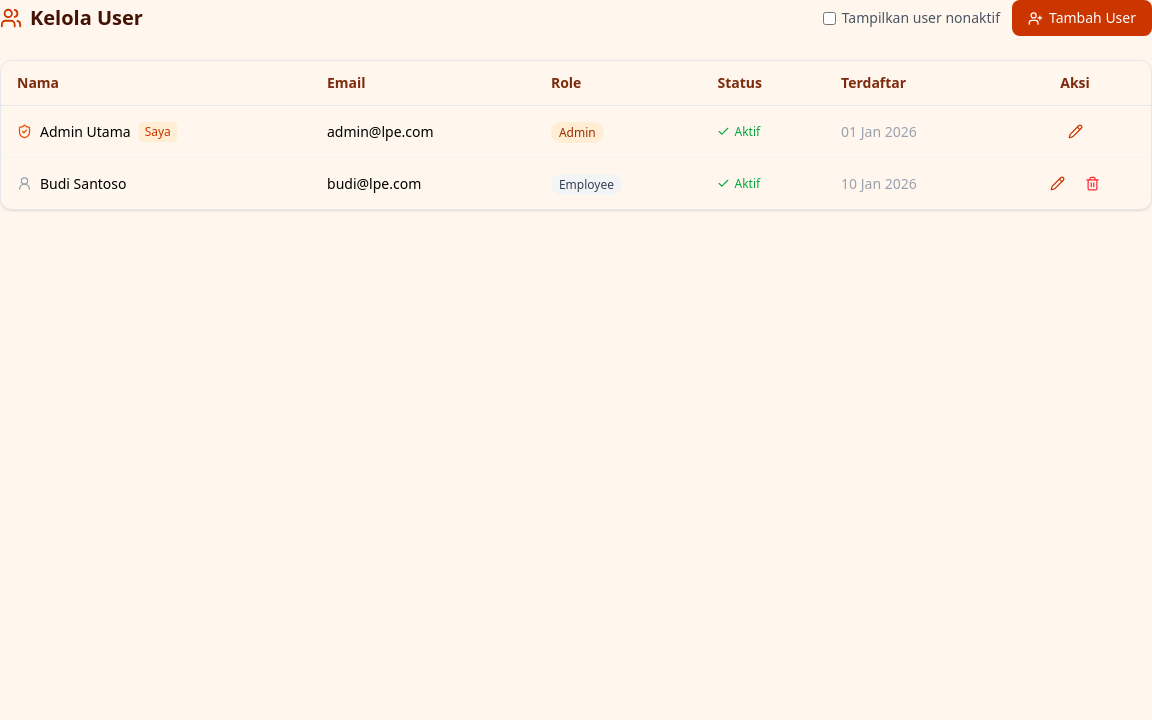
it: UserManagement Component (components/admin/UserManagement.jsx) › harus menampilkan pesan error jika penambahan user gagal
Check: the text "Admin Utama" is shown, box [40,122,131,140]
Click the button "Tambah User" at coordinates (1082, 18), box [1012,0,1151,36]
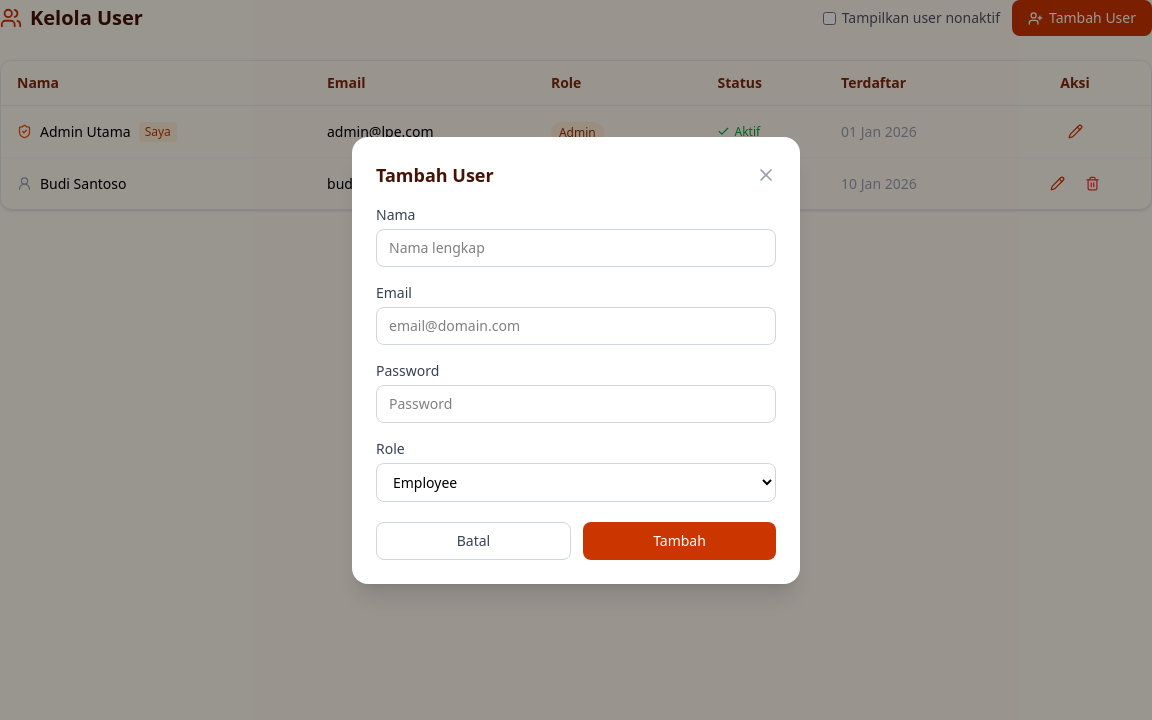
Type "Siti Rahma" into the field with placeholder "Nama lengkap" at coordinates (576, 248), box [376,228,776,266]
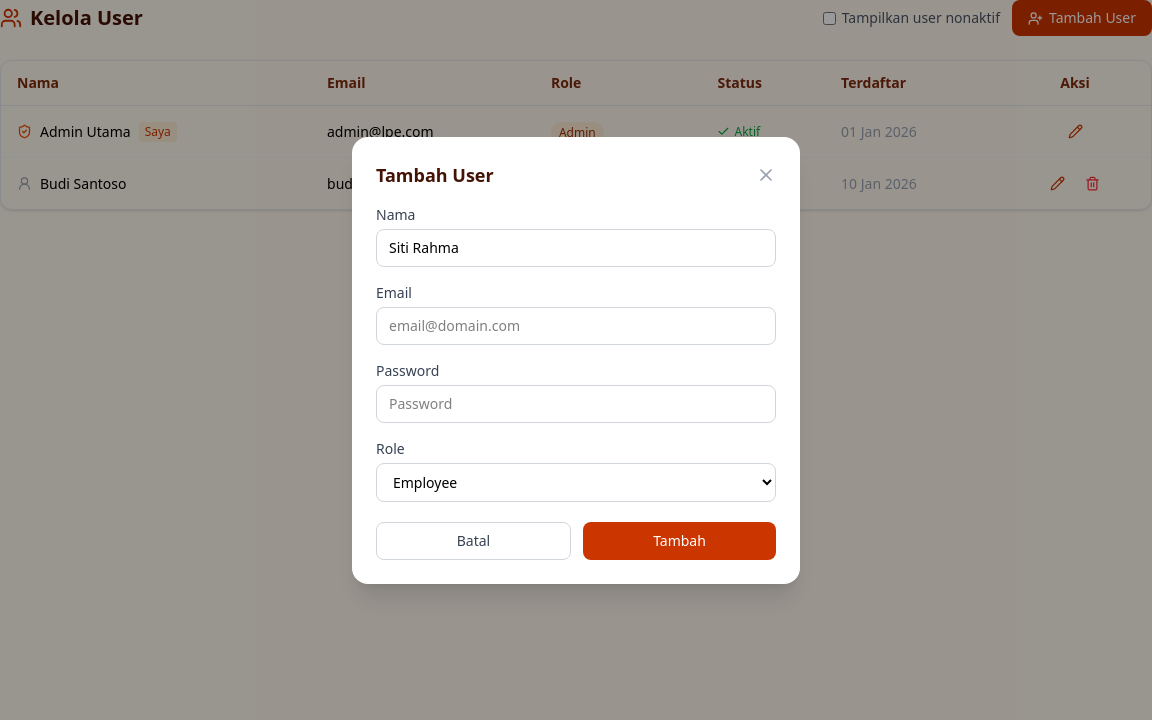
Type "siti@lpe.com" into the field with placeholder "email@domain.com" at coordinates (576, 326), box [376,306,776,344]
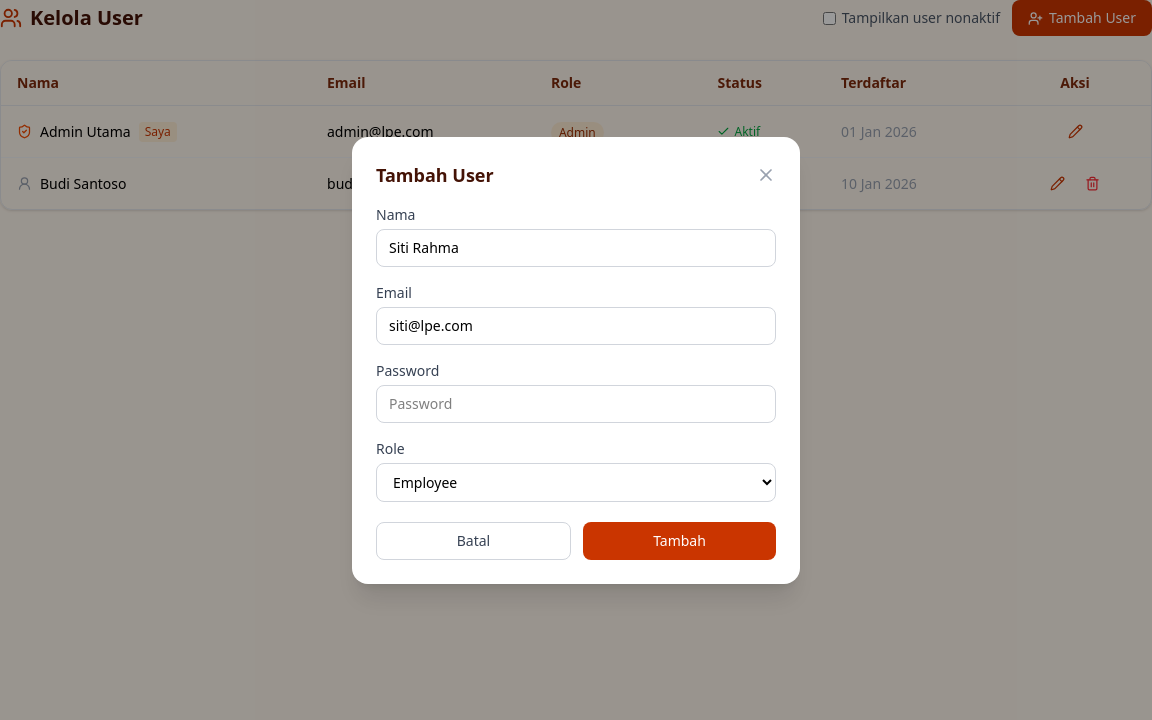
Type "secret123" into the password field with placeholder "Password" at coordinates (576, 404), box [376,384,776,422]
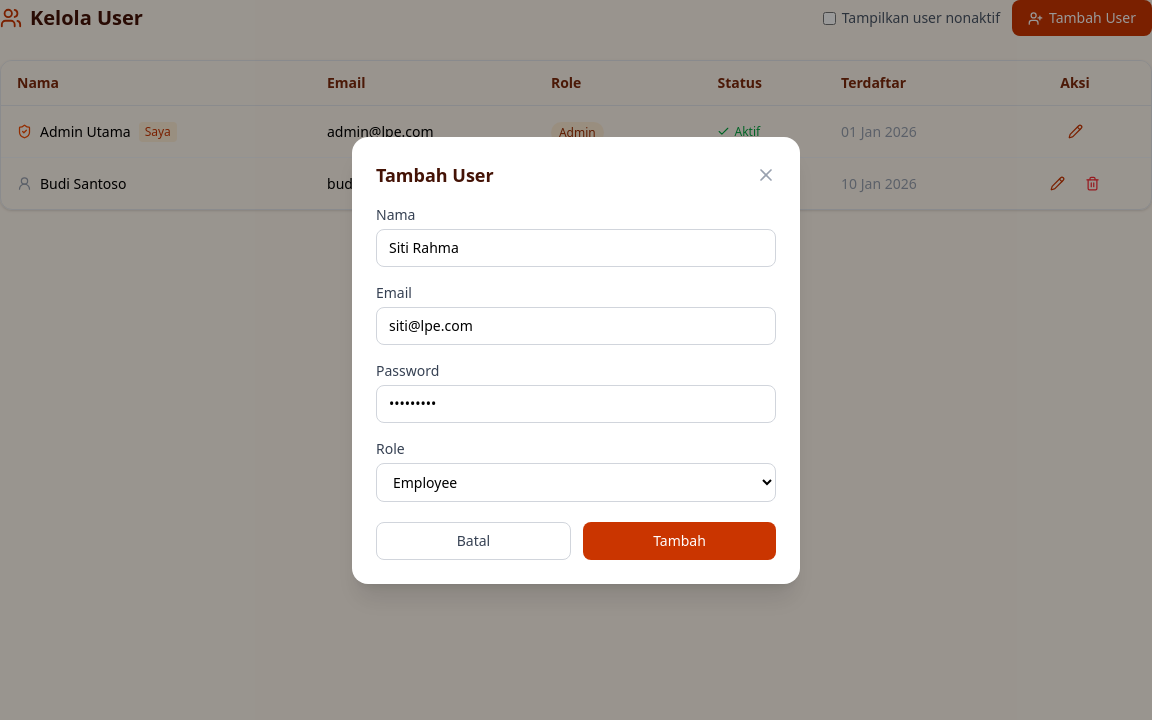
Click the button "Tambah" at coordinates (680, 540), box [583,522,776,560]
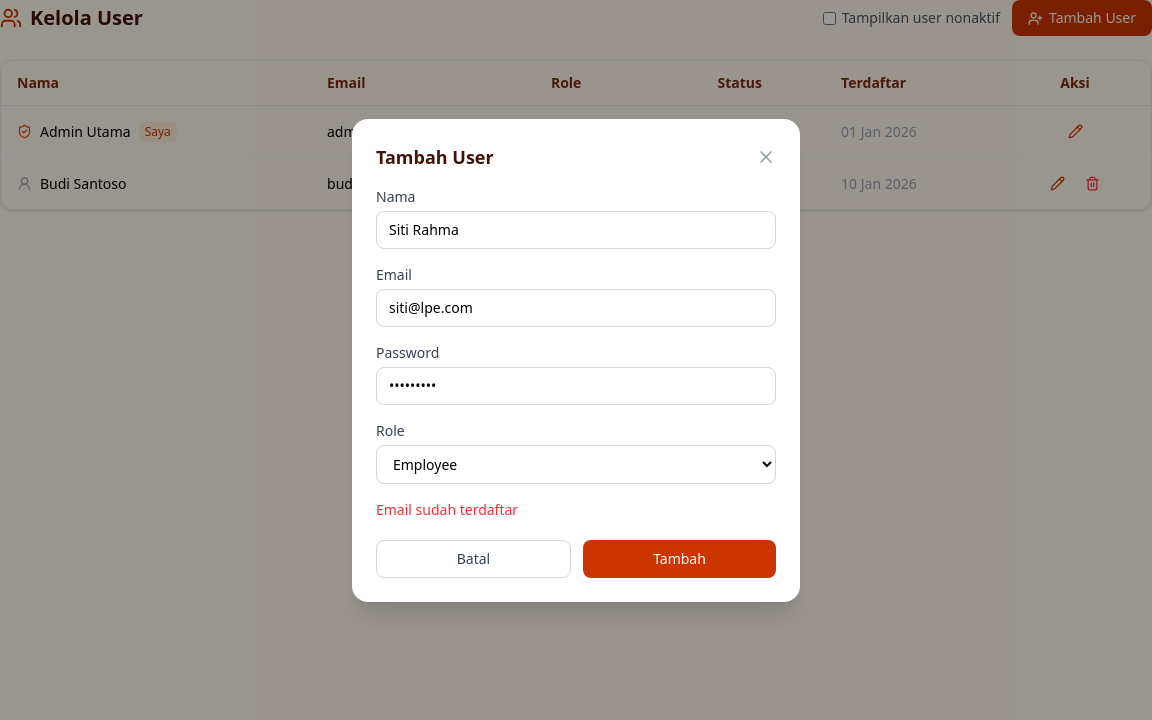
Check: the text "Email sudah terdaftar" is shown, box [376,500,518,518]
